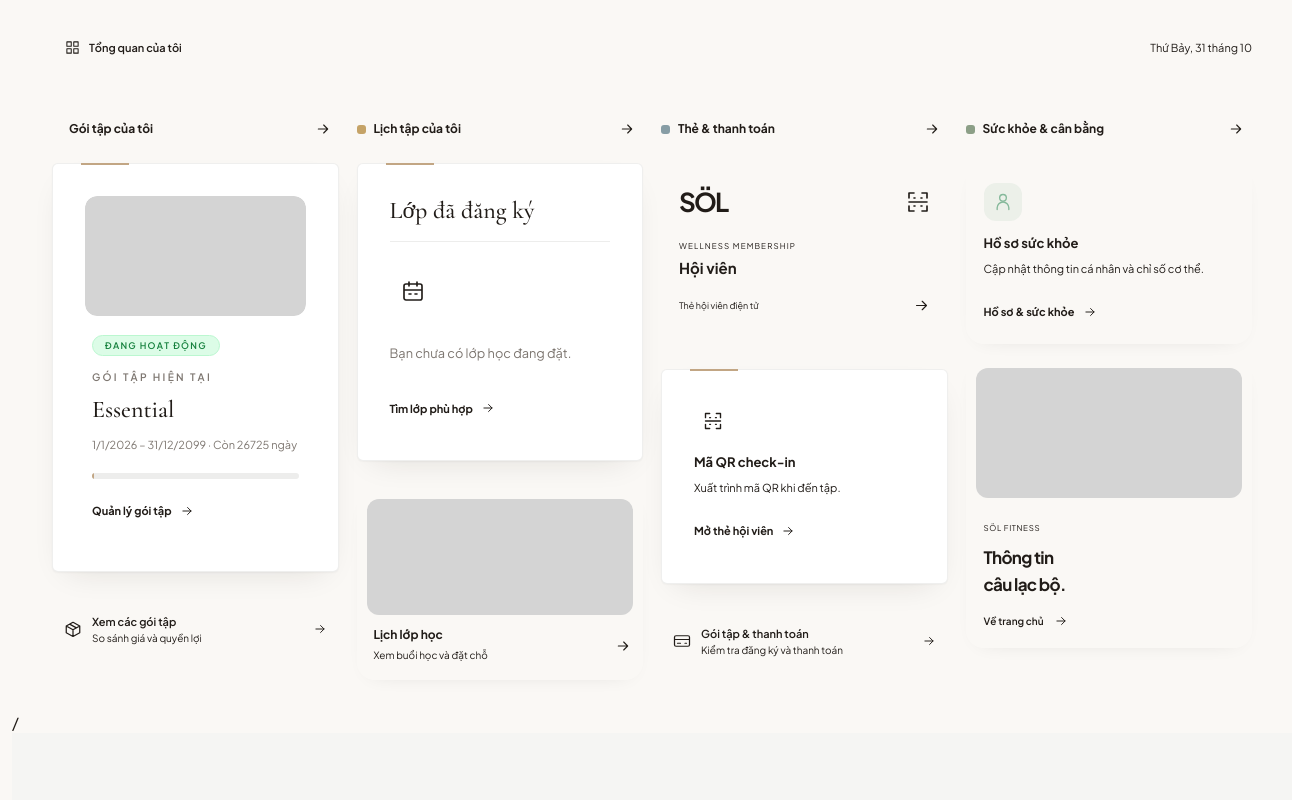
Test case: SCRUM-85 dashboard › opens Classes from the class card and discovery image
Click the link with class "member-card-overlay-link". click: (500, 312)
box: [358, 164, 642, 460]
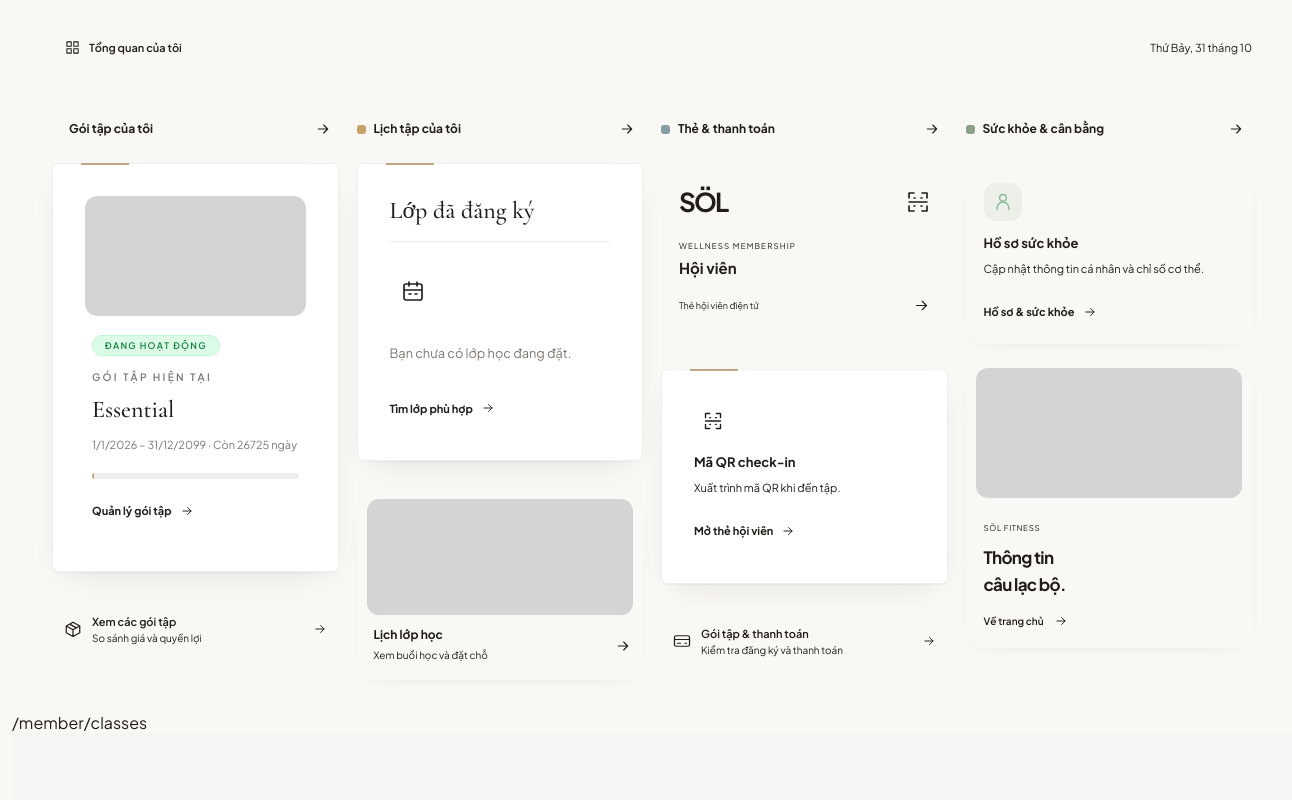
Check: the text with test id "location" reads "/member/classes", box [12, 712, 147, 733]
